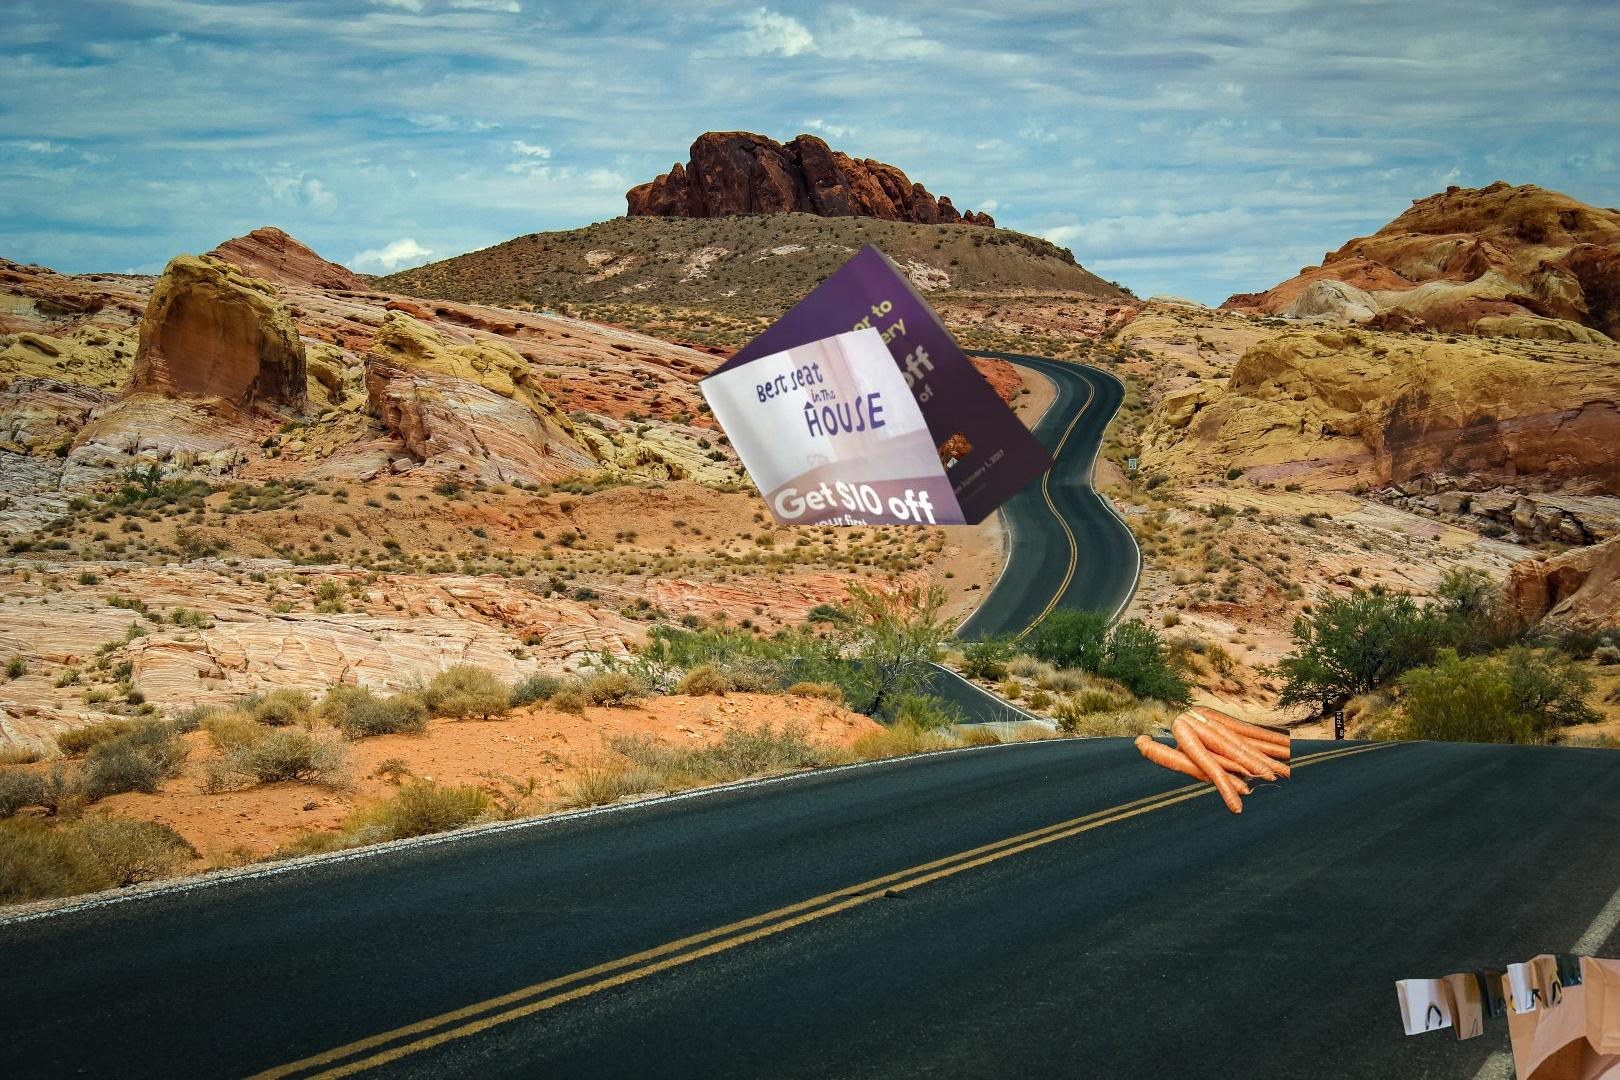biological: (1123, 703, 1290, 818)
paper: (693, 239, 1060, 525)
paper-bag: (1392, 951, 1620, 1080)
